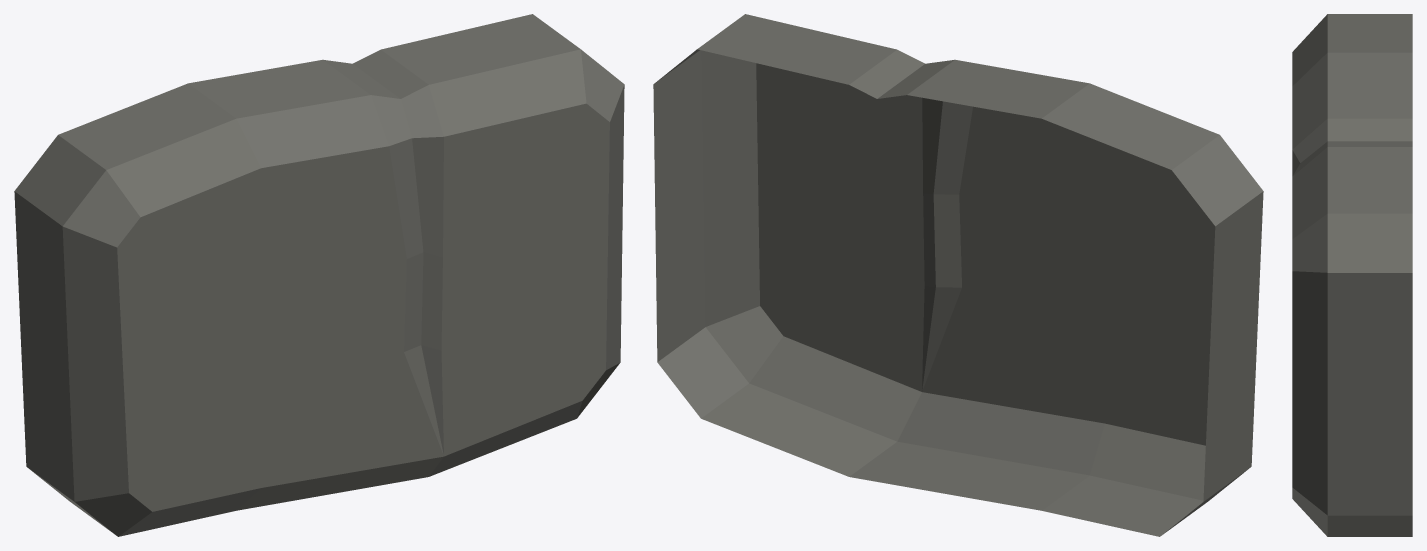
Rendered from SwitchSecret_Button.glb.
3 renders of one model, left to right at view 1: azimuth 30°, elevation 25°; view 2: azimuth 150°, elevation 25°; view 3: azimuth 270°, elevation 25°, orthographic. The views are drawn at different scales.
Visible parts, largest first — view 1: SwitchSecret_Button.001; view 2: SwitchSecret_Button.001; view 3: SwitchSecret_Button.001.
Boxes of the visible parts, x1,y1,x2,y2 form: SwitchSecret_Button.001: (14,14,624,536); SwitchSecret_Button.001: (653,14,1263,536); SwitchSecret_Button.001: (1292,14,1412,536).
Size of the model in its own units: 0.3903 by 0.269 by 0.082.
Materials: 1 (1 with a texture image).
